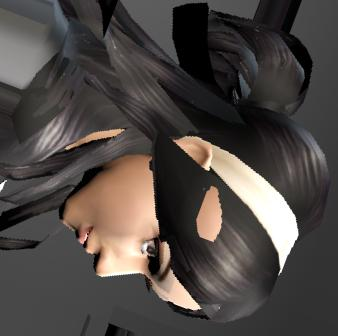clip: (194, 185, 225, 241)
